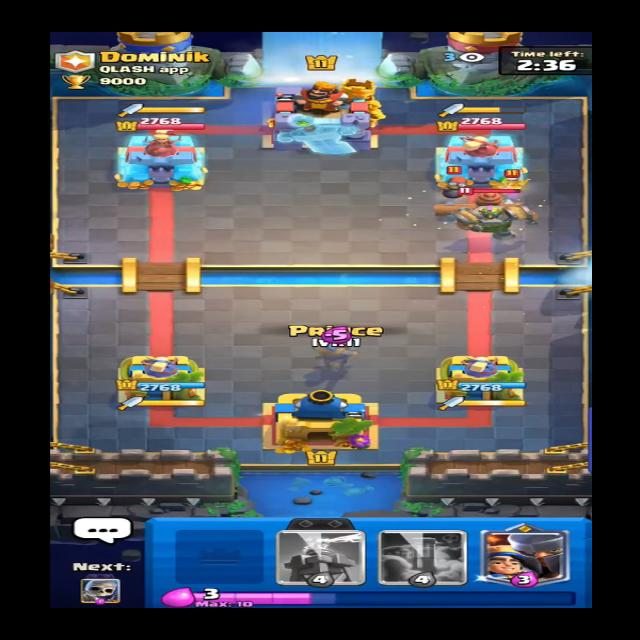bomber: (427, 164, 477, 203)
goblin-machine: (444, 186, 544, 236)
skeleton: (501, 166, 531, 186)
